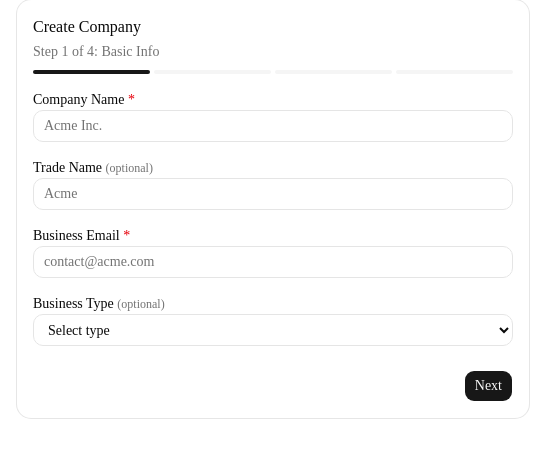
T084 — CompanyCreateWizard › prevents progression from step 1 with empty legal_name
This screenshot has width=547, height=476.
Check: the field labelled "Company Name *" is shown, box [33, 110, 513, 142]
Step 1. Click the button "Next" → (488, 386), box [464, 370, 513, 402]
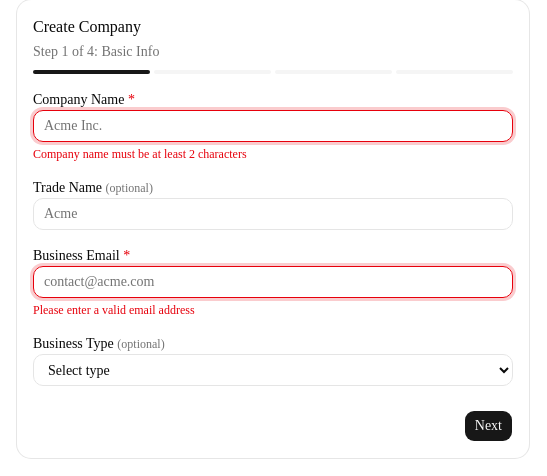
Check: the field labelled "Company Name *" is shown, box [33, 110, 513, 142]
Check: the text "Company name must be at least 2 characters" is shown, box [33, 147, 247, 161]
